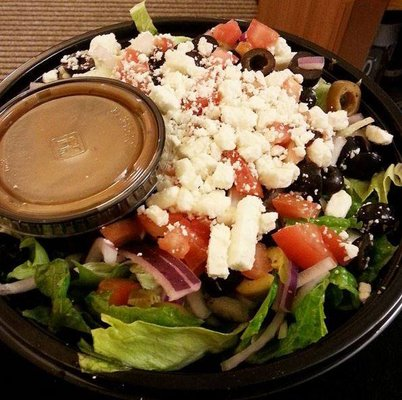sushi: (0, 3, 402, 388), (0, 77, 165, 246)
